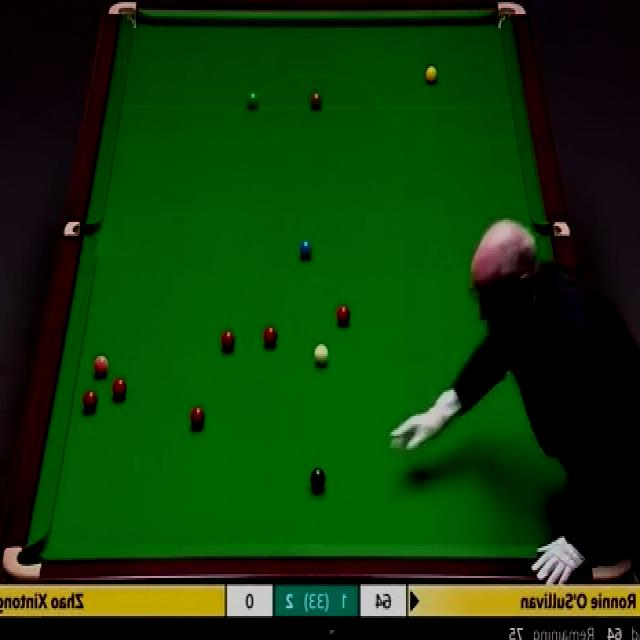pocket: (2, 545, 42, 579), (593, 547, 632, 576), (106, 1, 136, 30), (498, 0, 527, 27), (537, 219, 569, 240), (64, 220, 97, 240)
